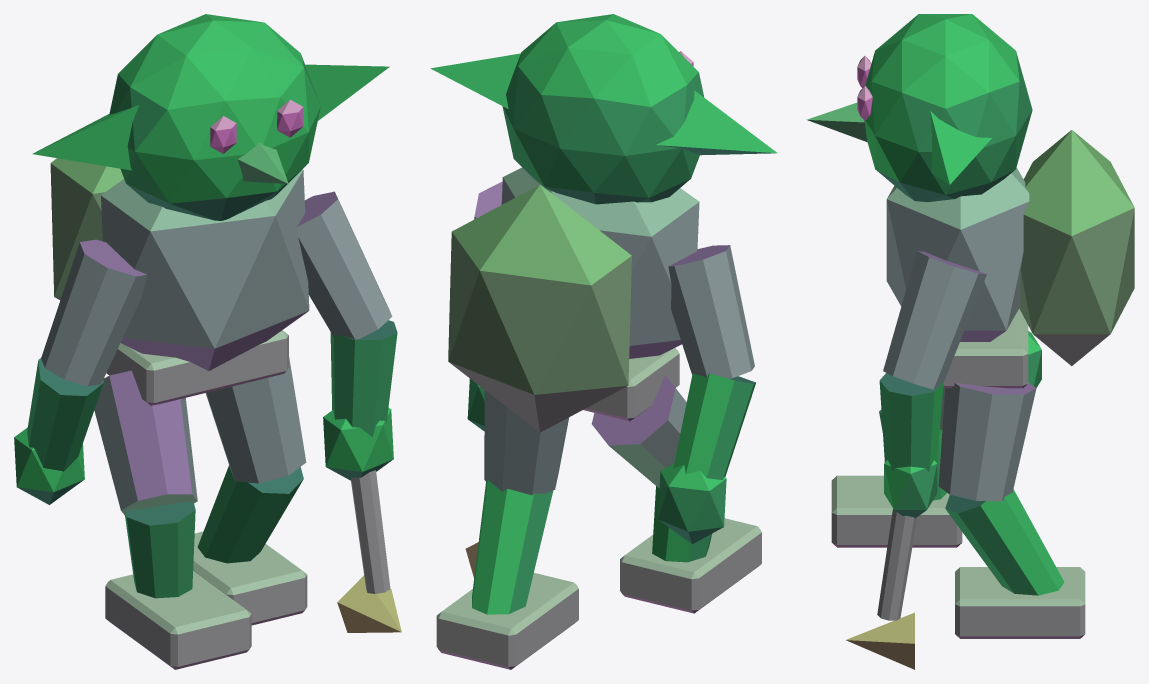
Rendered from creature_goblin_scavenger_down_a_v01.glb.
3 renders of one model, left to right at view 1: azimuth 30°, elevation 25°; view 2: azimuth 150°, elevation 25°; view 3: azimuth 270°, elevation 25°, orthographic. The views are drawn at different scales.
Visible parts, largest first — view 1: GEO_creature_goblin_scavenger_down_a_v01; view 2: GEO_creature_goblin_scavenger_down_a_v01; view 3: GEO_creature_goblin_scavenger_down_a_v01.
Boxes of the visible parts, x1,y1,x2,y2 form: GEO_creature_goblin_scavenger_down_a_v01: [14, 14, 401, 669]; GEO_creature_goblin_scavenger_down_a_v01: [430, 14, 777, 669]; GEO_creature_goblin_scavenger_down_a_v01: [806, 14, 1134, 669].
Size of the model in its own units: 0.88 by 1.48 by 0.7546.
